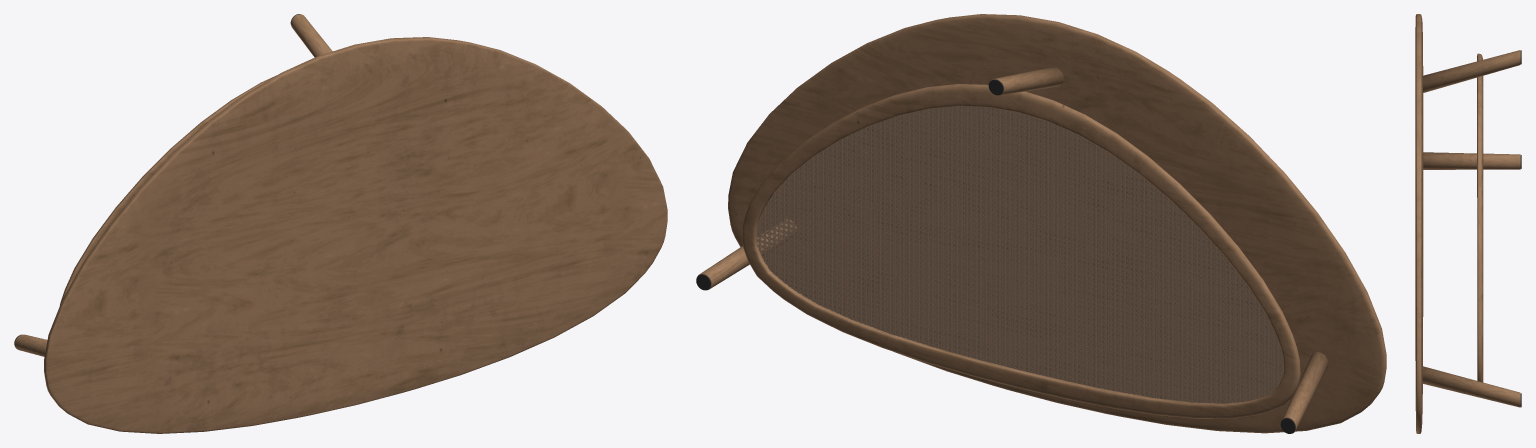
File: coffee-tables-three-legs-with-rattan-i-l-c434f2.glb
3 renders of one model, left to right at view 1: azimuth 30°, elevation 25°; view 2: azimuth 150°, elevation 25°; view 3: azimuth 270°, elevation 25°, orthographic. The views are drawn at different scales.
Parts seen in each view (by area): view 1: PropMesh; view 2: PropMesh; view 3: PropMesh.
Part boxes in pixels (x1=…): PropMesh: x1=14, y1=14, x2=667, y2=433; PropMesh: x1=696, y1=14, x2=1386, y2=433; PropMesh: x1=1415, y1=14, x2=1521, y2=433.
Bounding box in the file's own units: 2.47 × 1.36 × 0.4131.
Materials: 4 (3 with a texture image).
